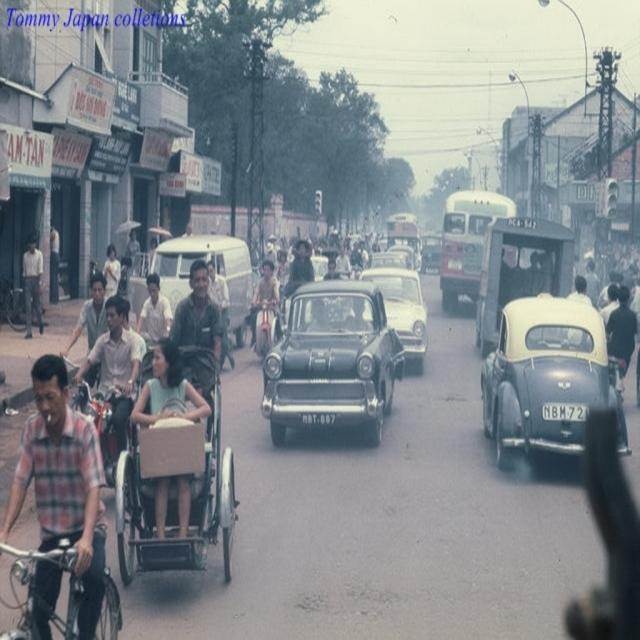car: (260, 276, 401, 443)
